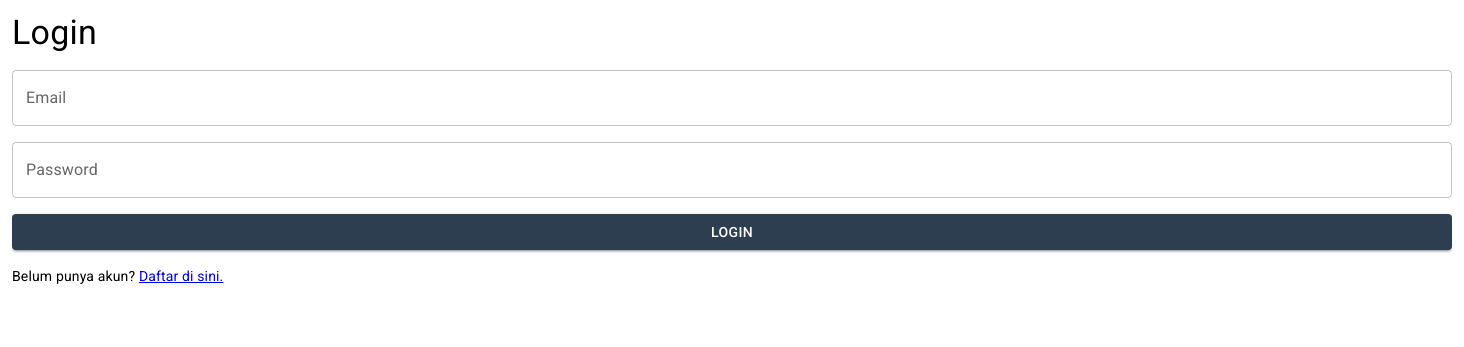
Test case: LoginForm component › should display error when submitting an empty form
Click the button "Login": click(732, 232) [12,214,1452,250]
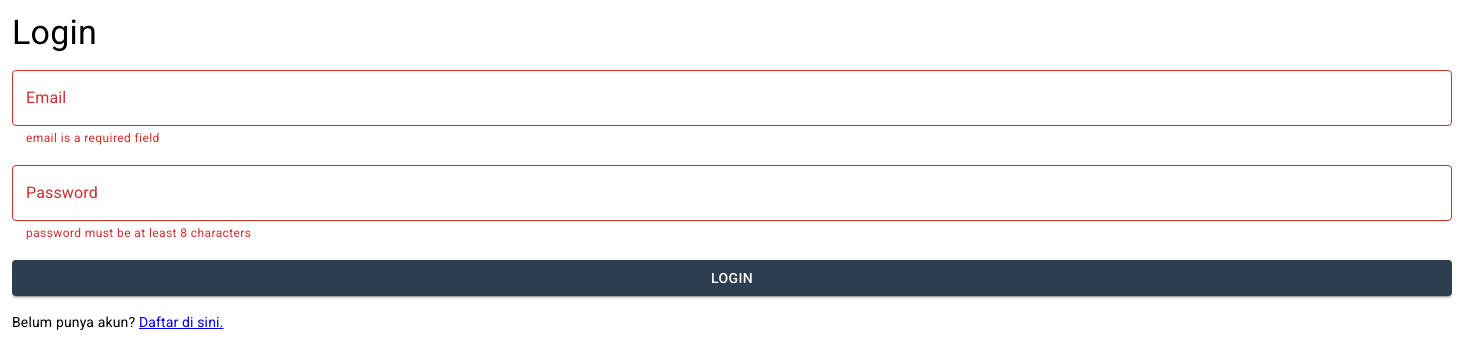
Expected: the text "email is a required field" is shown, [26,131,160,145]
Expected: the text "password must be at least 8 characters" is shown, [26,226,251,240]
